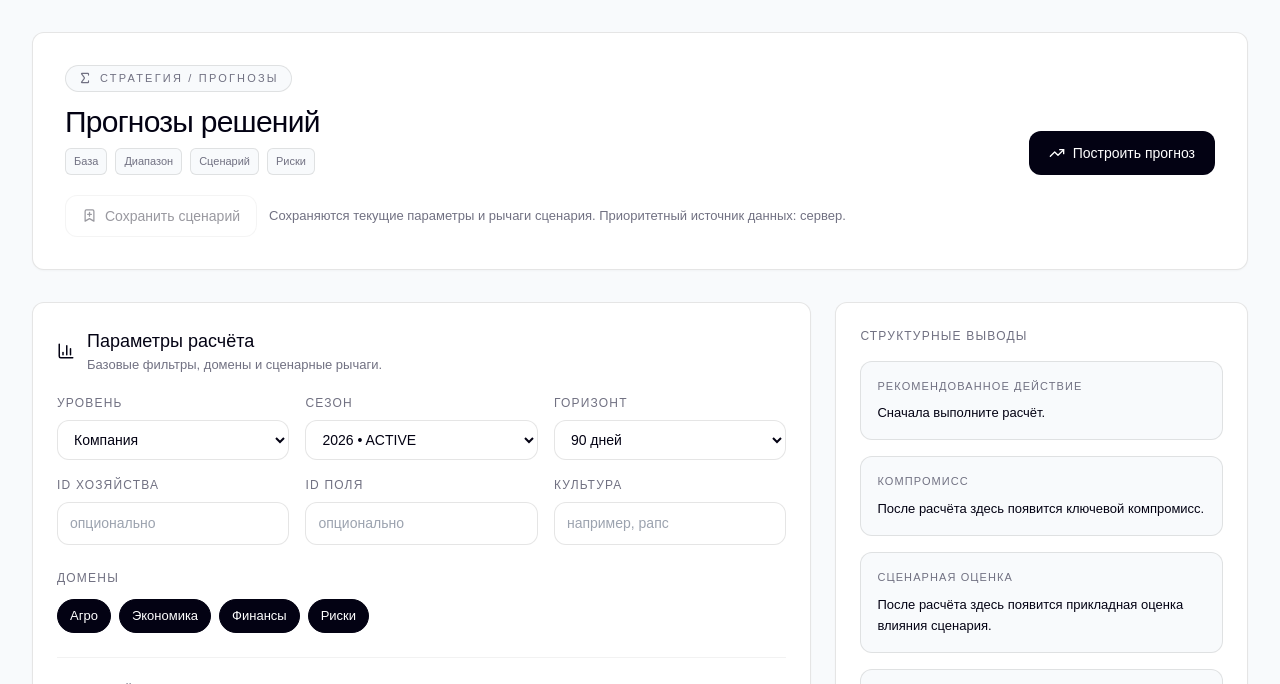
Test case: StrategyForecastsPage › renders optimization preview after forecast run
The image size is (1280, 684).
Click the button "Построить прогноз": (1122, 153) x1=1029 y1=131 x2=1215 y2=175
(page scrolled)
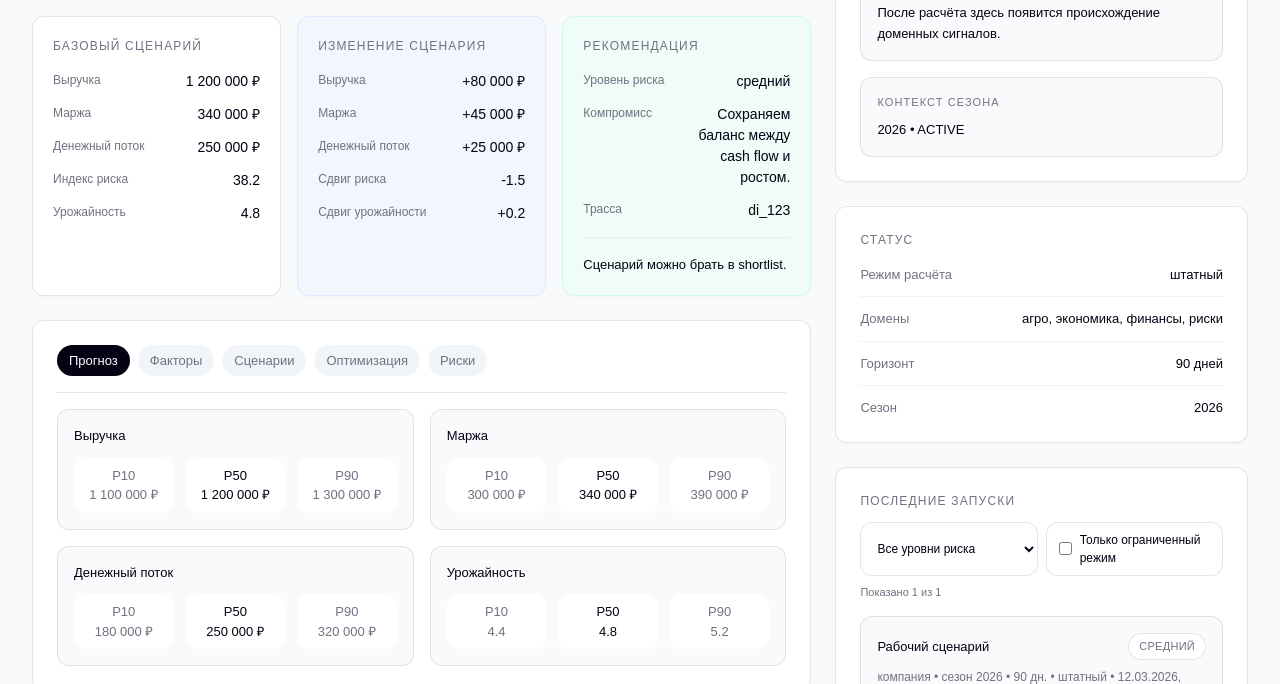
Click the button "Оптимизация": (367, 361) x1=314 y1=345 x2=420 y2=376
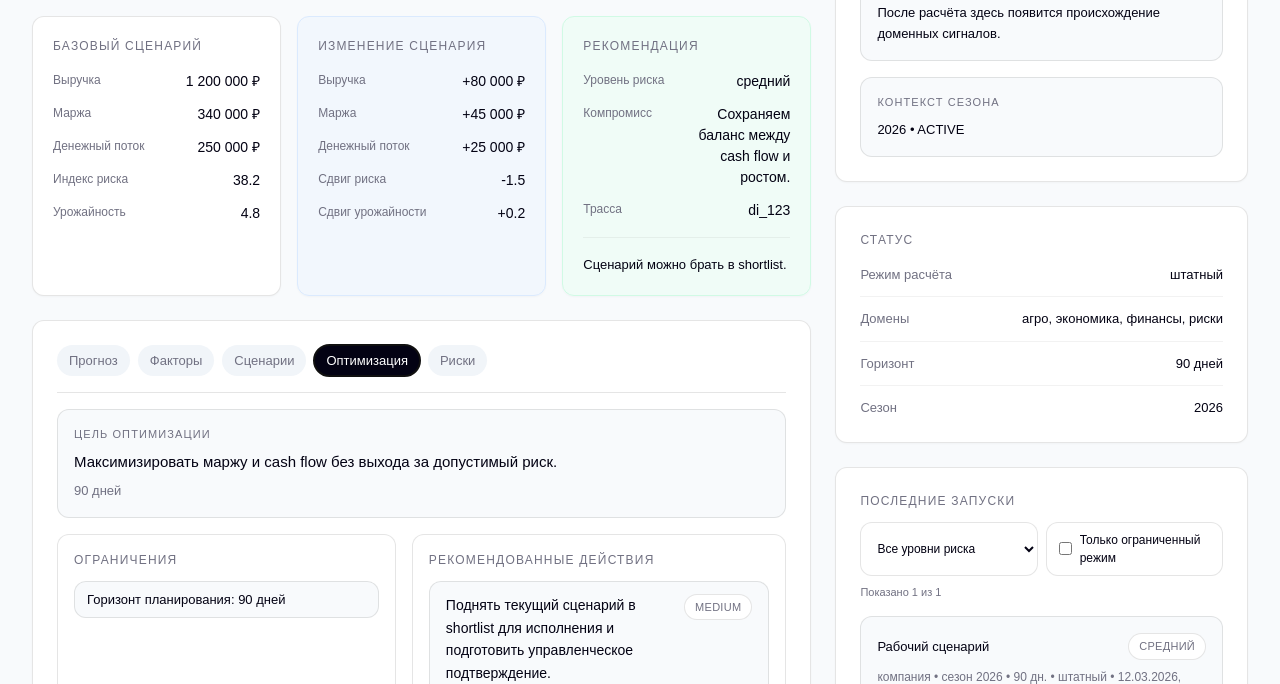
Expected: the text "Рабочий сценарий" is shown, x1=877 y1=637 x2=989 y2=656
Expected: the text "Максимизировать маржу и cash flow" is shown, x1=74 y1=453 x2=557 y2=470
Expected: the text "shortlist для исполнения" is shown, x1=446 y1=597 x2=636 y2=681
